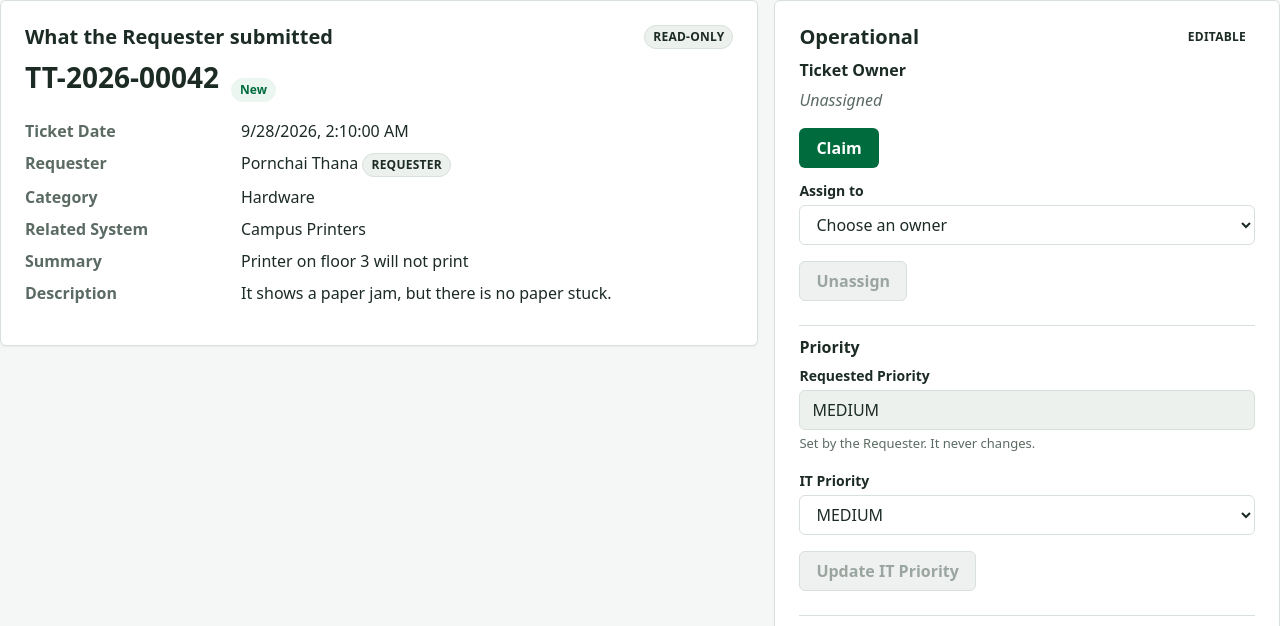
UI-15 Claim (AC-22) › confirms first, saying a NEW ticket also moves to Open, then claims as the current user
Expected: the heading "TT-2026-00042" is shown, [25, 61, 219, 95]
Click the button "Claim". click: (839, 148)
box: [799, 128, 879, 168]
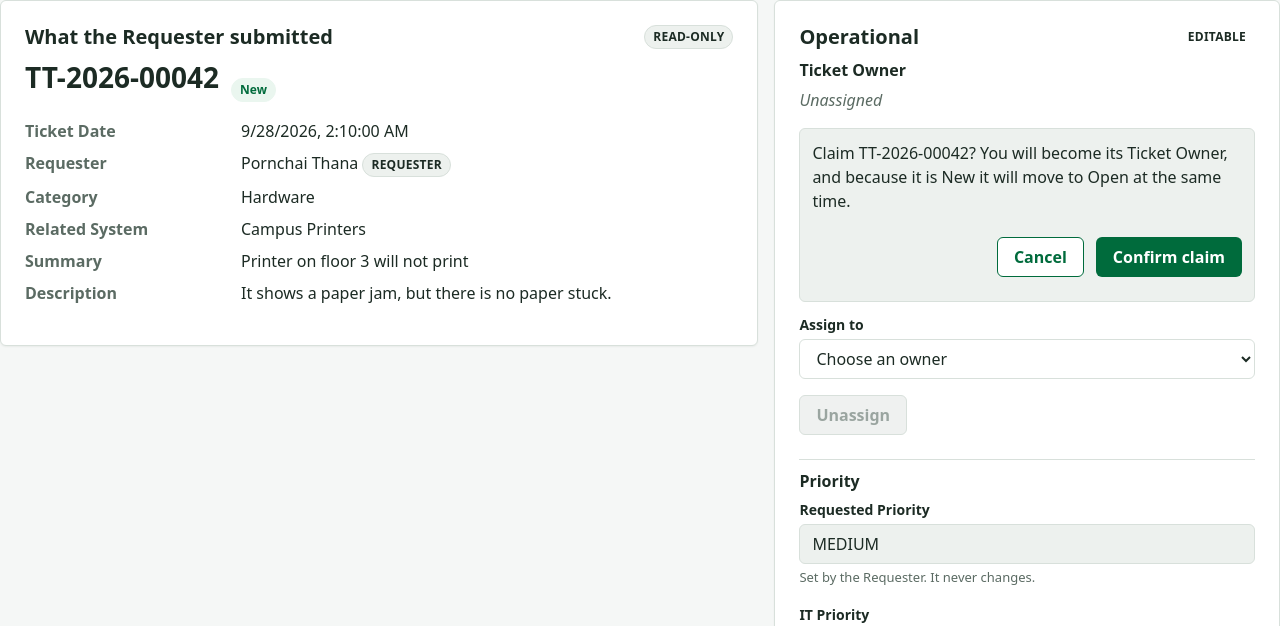
Expected: the text "move to Open" is shown, [812, 142, 1228, 212]
Click the button "Confirm claim". click: (1169, 257)
box: [1096, 237, 1242, 277]
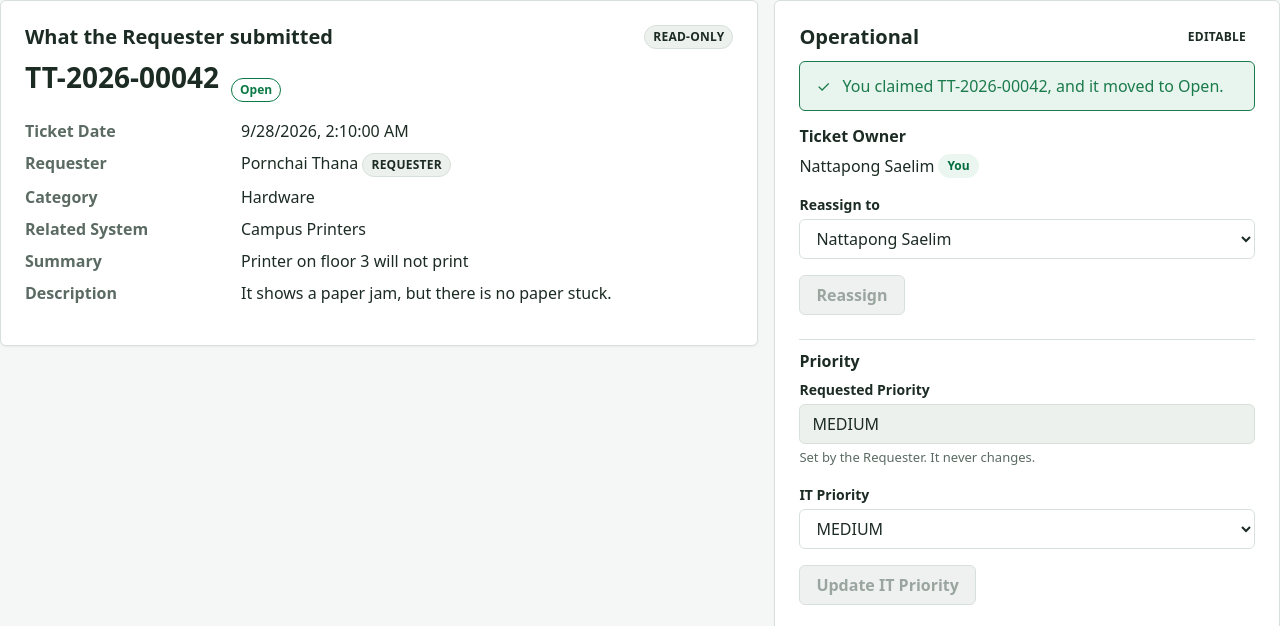
Expected: the text "You claimed TT-2026-00042, and it moved to Open." is shown, [842, 74, 1224, 98]
Expected: the text "You" is shown, [938, 154, 979, 178]
